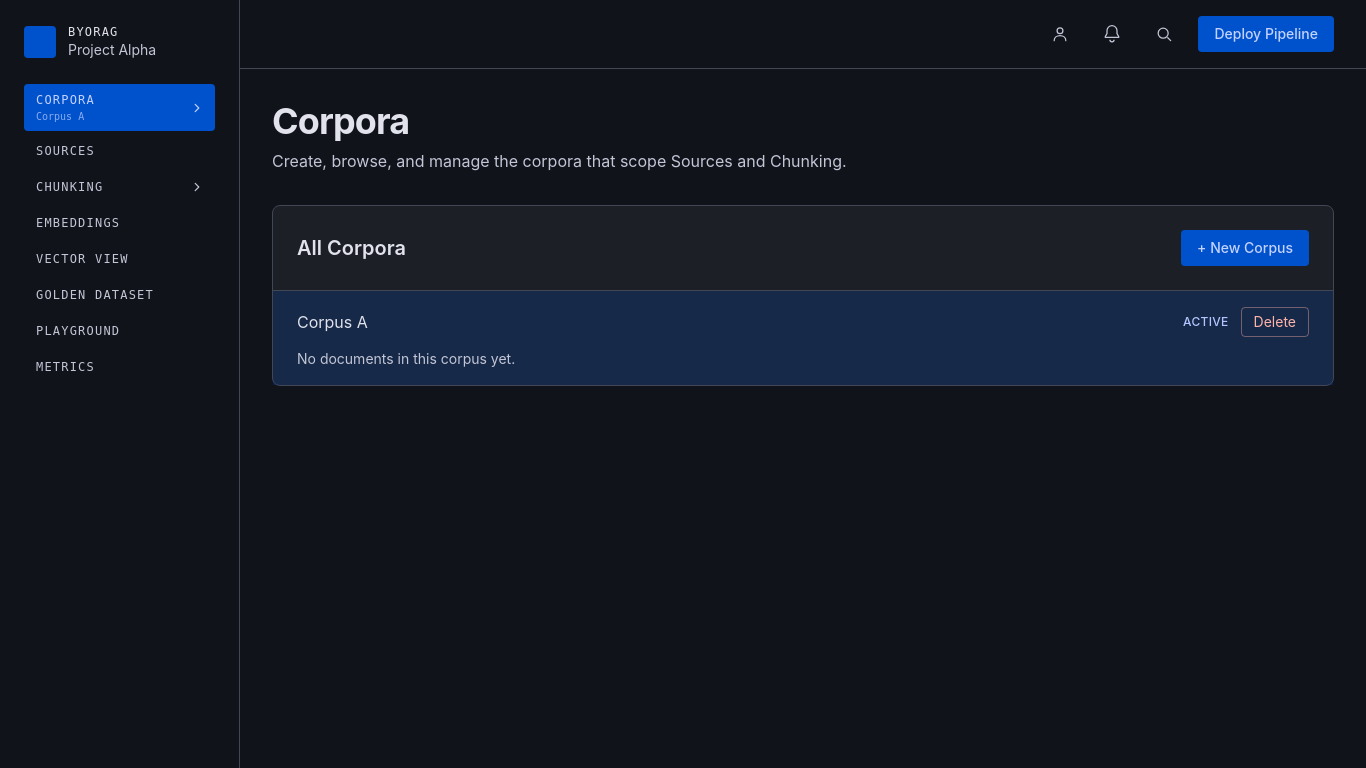
Scenario: CorporaScreen corpus deletion (009-corpora-screen US4, relocated per-row in 011-move-corpus-row-actions) › deletes an empty corpus via its row's own Delete action and removes it from the list
expect the list item with test id "corpus-row-corpus-a" is shown: met, box left=273, top=291, right=1333, bottom=385
Step 1. Click the button with aria-label "delete corpus a" → click(1275, 322), box left=1241, top=307, right=1309, bottom=337
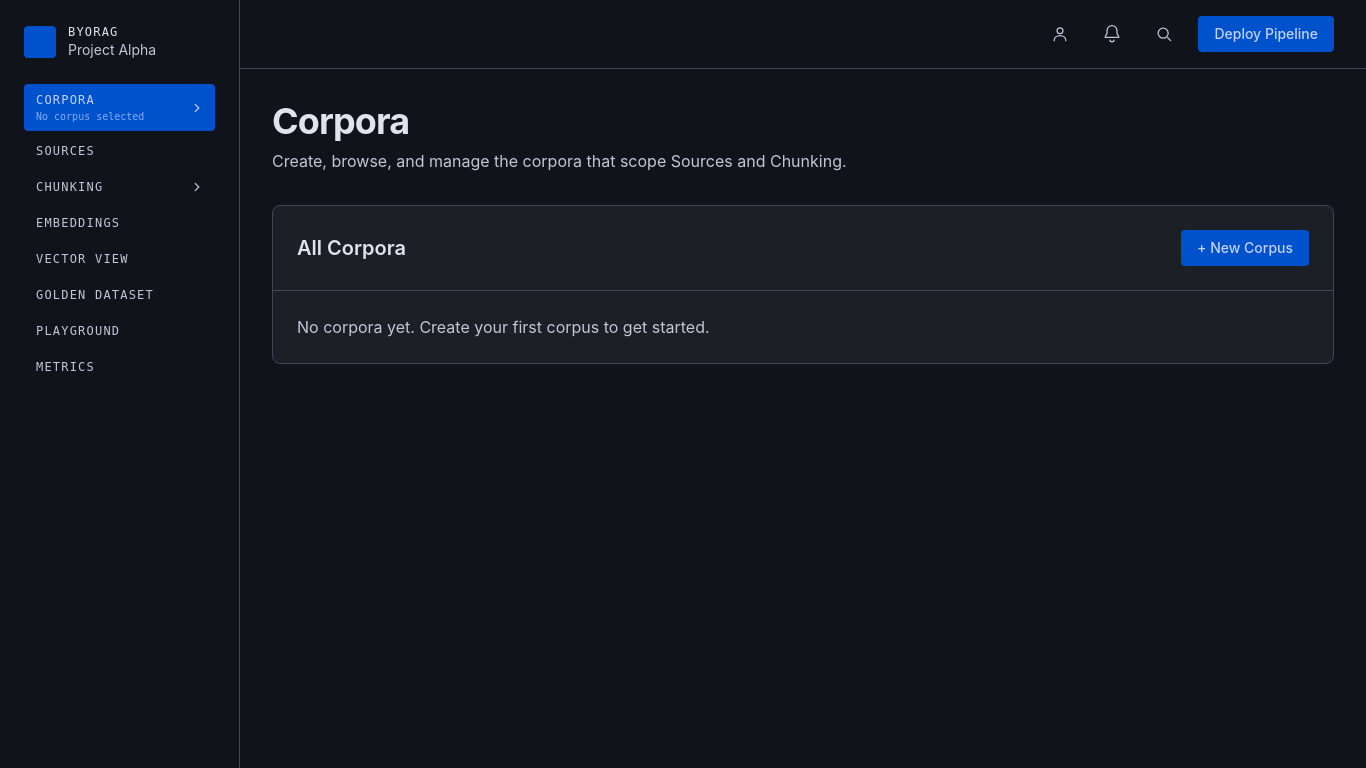
expect the list item with test id "corpus-row-corpus-a" is gone: met
